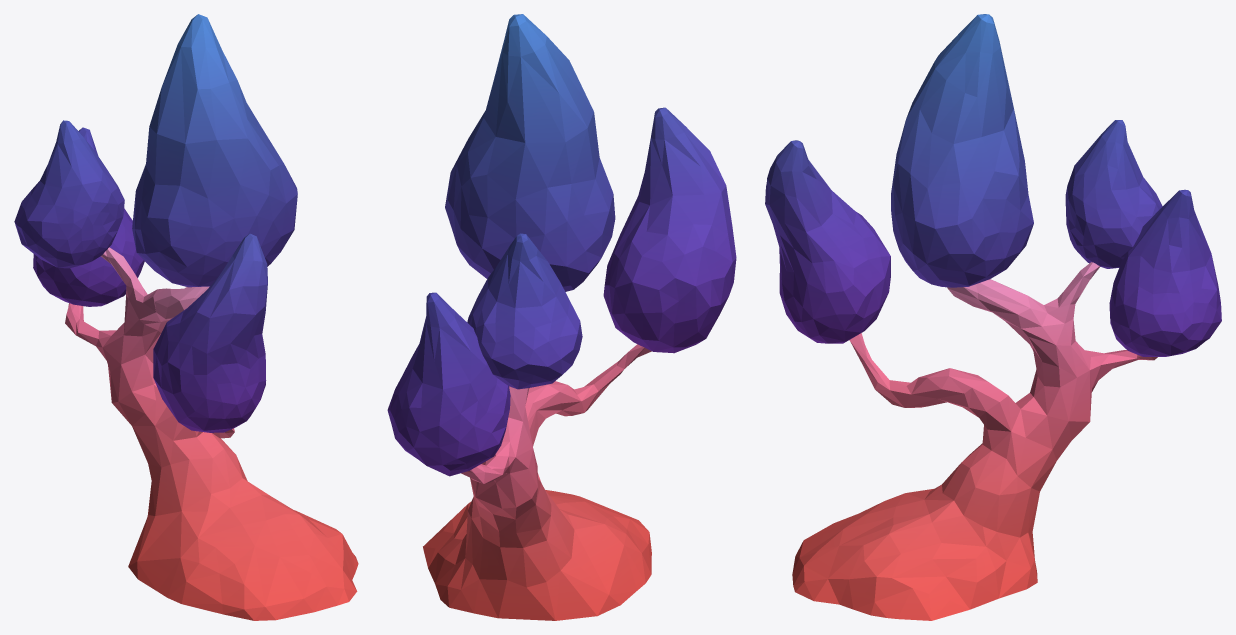
The model's file is fabulous_mushroom.glb.
3 views of the same model, side by side, from view 1: azimuth 30°, elevation 25°; view 2: azimuth 150°, elevation 25°; view 3: azimuth 270°, elevation 25° (orthographic). The views are drawn at different scales.
Parts seen in each view (by area): view 1: fabulous_mushroom_002.002; view 2: fabulous_mushroom_002.002; view 3: fabulous_mushroom_002.002.
Part boxes in pixels (x1,y1,x2,y2): fabulous_mushroom_002.002: [14, 14, 358, 620]; fabulous_mushroom_002.002: [387, 14, 736, 620]; fabulous_mushroom_002.002: [765, 14, 1221, 620].
Bounding box in the file's own units: 0.3635 × 0.814 × 0.6124.
1 material, 1 textured.
